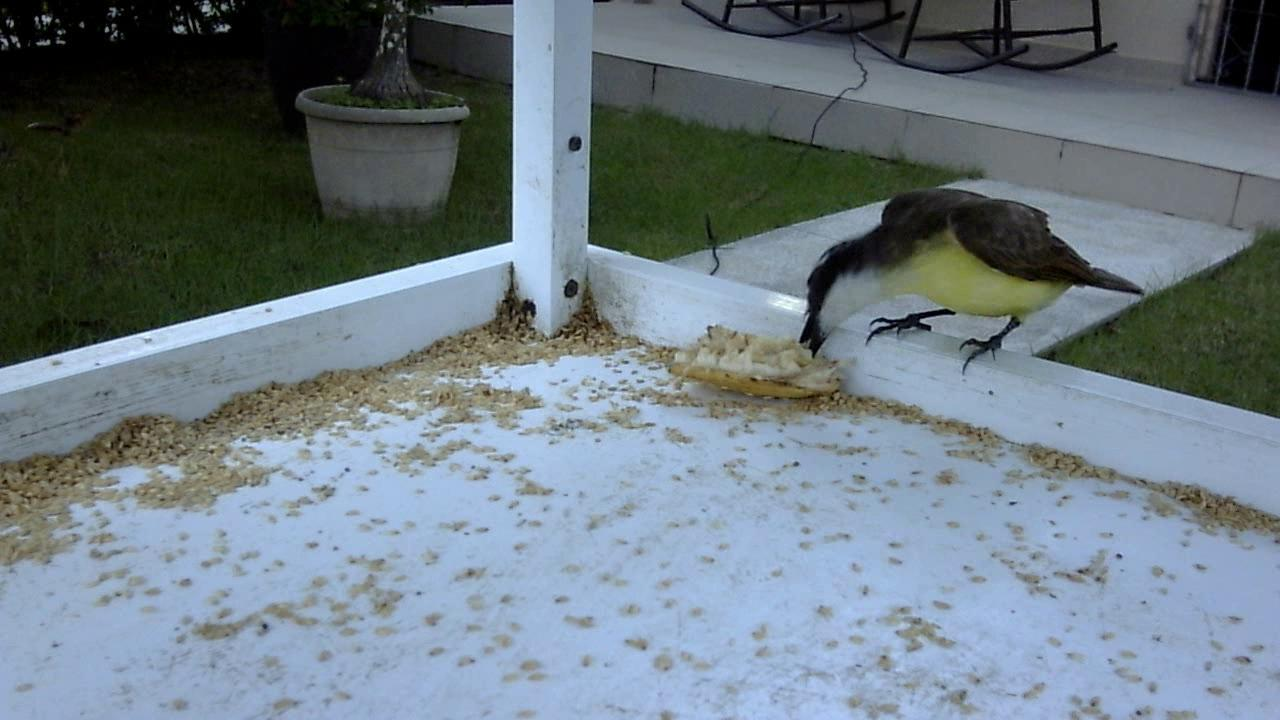bem_te_vi: (789, 167, 1157, 406)
